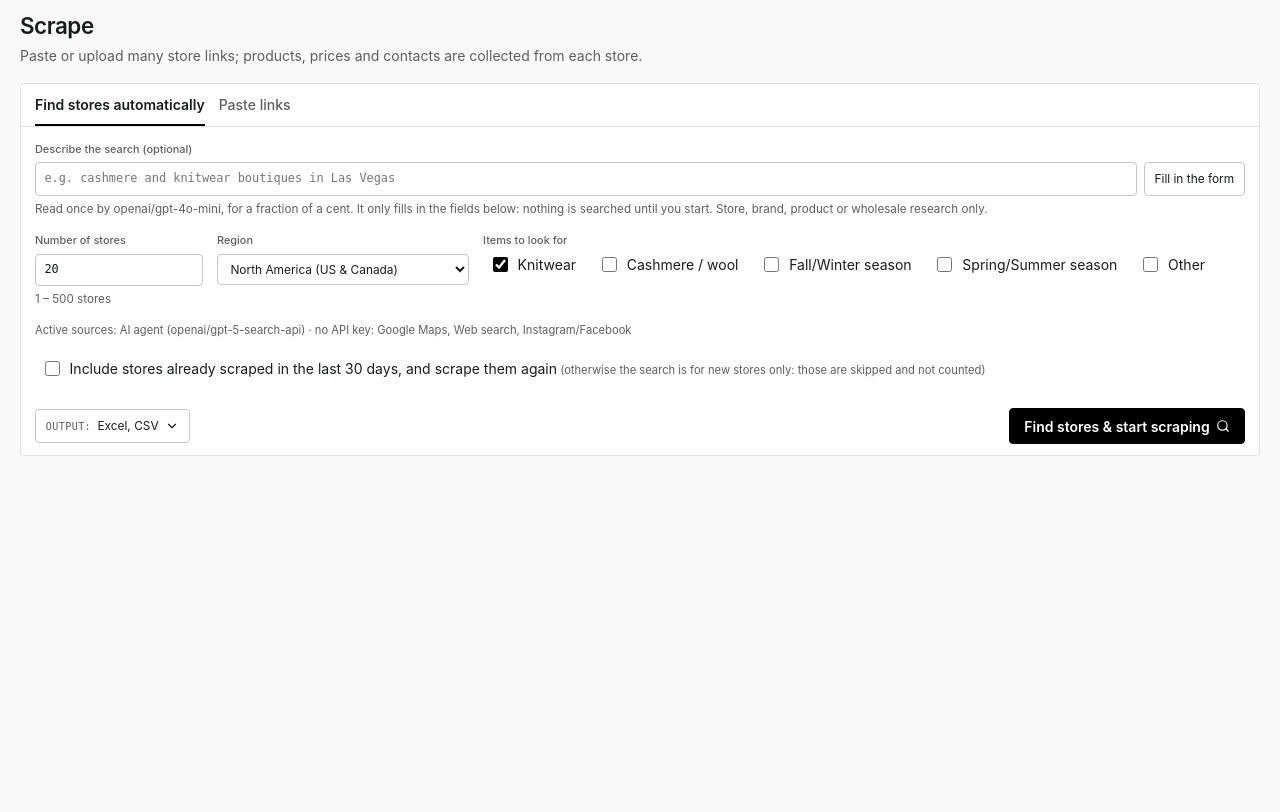
Scenario: Scrape: find stores › refuses a request that is not a store search and leaves the form alone
This screenshot has width=1280, height=812.
Expected: the button "Find stores & start scraping" is shown, top-left (1009, 408), bottom-right (1245, 444)
In the field labelled "Describe the search (optional)": (586, 179) top-left (35, 162), bottom-right (1137, 196), type "best casinos in vegas"
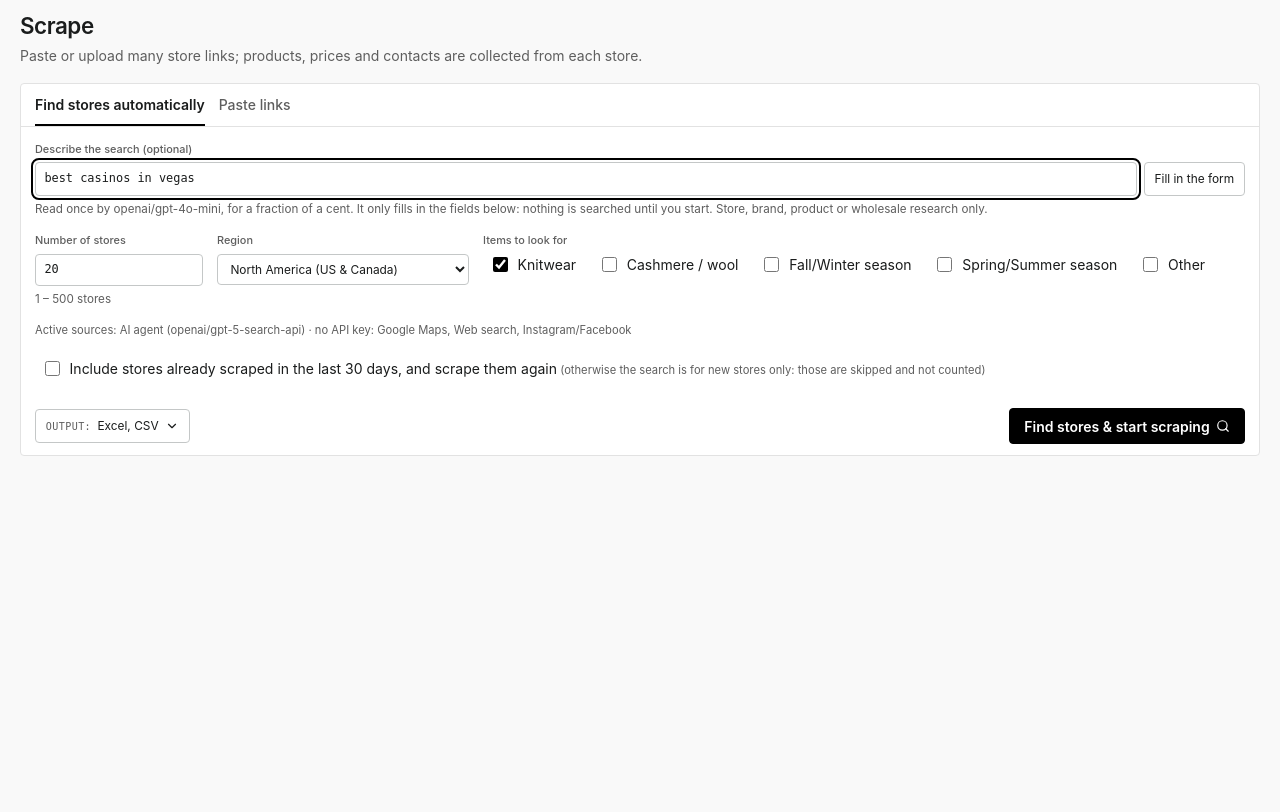
Click the button "Fill in the form": click(1194, 179) top-left (1144, 162), bottom-right (1245, 196)
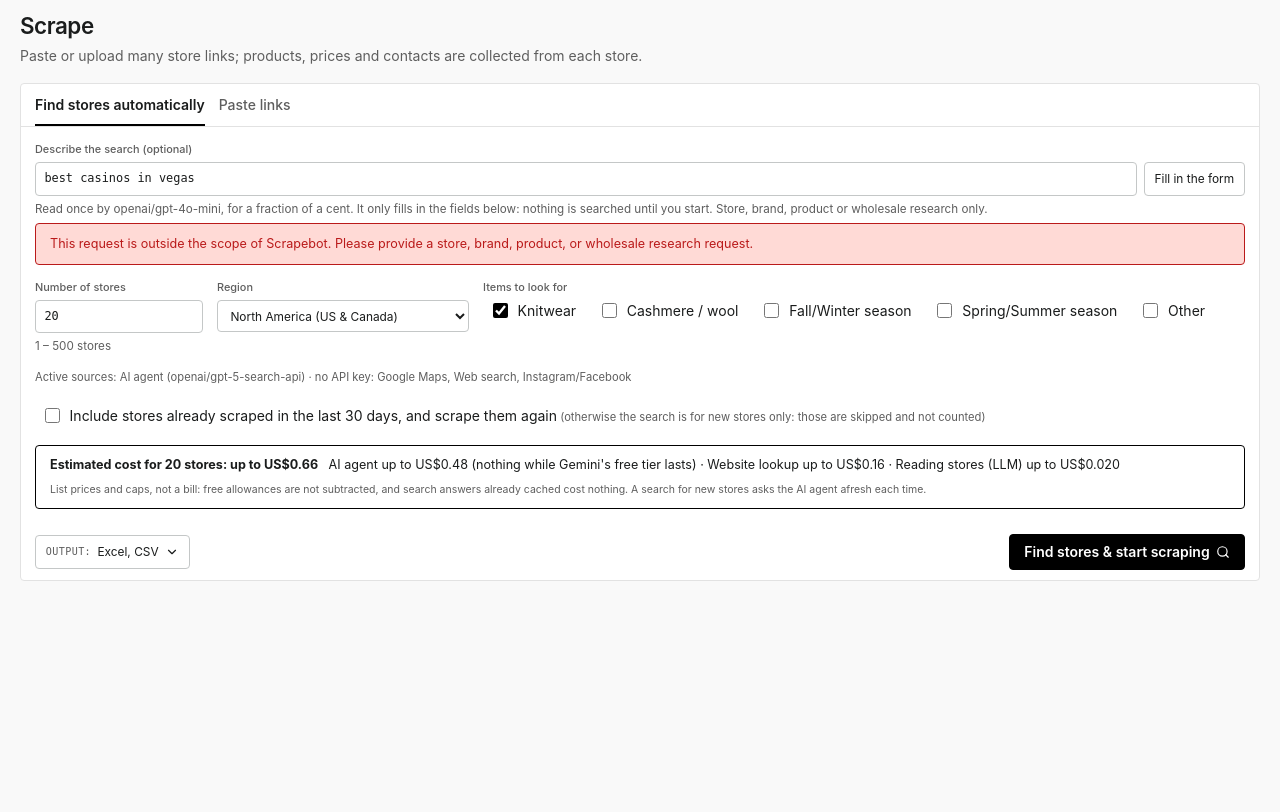
Expected: the dropdown labelled "Region" shows "North America (US & Canada)", top-left (217, 300), bottom-right (469, 332)
Result: the 1st message shows "This request is outside the scope of Scrapebot. Please provide a store, brand, product, or wholesale research request." at top-left (50, 236), bottom-right (753, 251)
